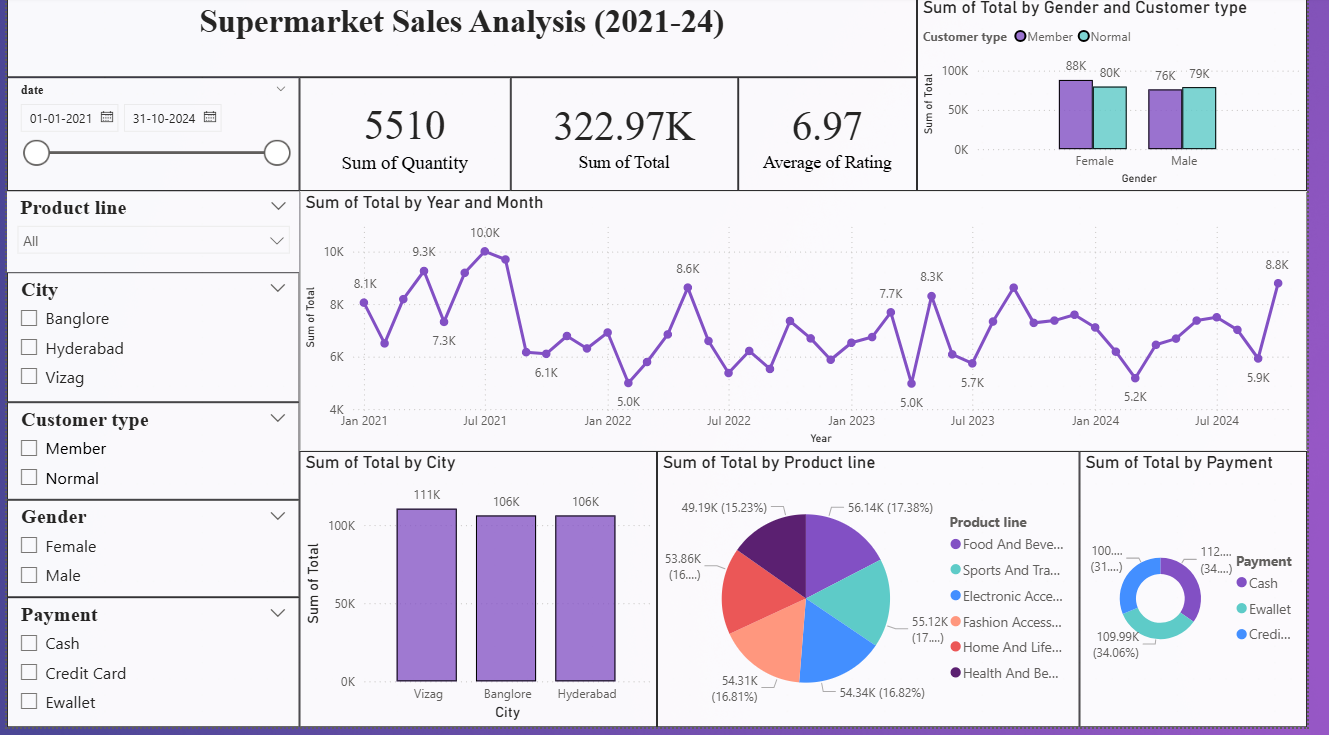

This screenshot's page, from the dashboard's own definition file:
{"tool":"powerbi","page":{"name":"Page 1","canvas":[1280,720],"ordinal":0},"visuals":[{"type":"textbox","box":[0,0,896,80],"z":0},{"type":"slicer","fields":{"Values":["sales.Customer type"]},"box":[0,400,288,96],"z":1000},{"type":"slicer","fields":{"Values":["sales.Gender"]},"box":[0,496,288,96],"z":2000},{"type":"slicer","fields":{"Values":["sales.City"]},"box":[0,272,288,128],"z":3000},{"type":"slicer","fields":{"Values":["sales.Payment"]},"box":[0,592,288,128],"z":4000},{"type":"slicer","fields":{"Values":["sales.Product line"]},"box":[0,192,288,80],"z":5000},{"type":"clusteredColumnChart","fields":{"Category":["sales.City"],"Y":["Sum(sales.Total)"]},"box":[288,448,352,272],"z":6000},{"type":"pieChart","fields":{"Category":["sales.Product line"],"Y":["Sum(sales.Total)"]},"box":[640,448,416,272],"z":7000},{"type":"donutChart","fields":{"Category":["sales.Payment"],"Y":["Sum(sales.Total)"]},"box":[1056,448,224,272],"z":8000},{"type":"lineChart","fields":{"Y":["Sum(sales.Total)"],"Category":["sales.date.Variation.Date Hierarchy.Year","sales.date.Variation.Date Hierarchy.Month"]},"box":[288,192,992,256],"z":9000},{"type":"card","fields":{"Values":["Sum(sales.Quantity)"]},"box":[288,80,208,112],"z":10000},{"type":"slicer","fields":{"Values":["sales.date"]},"box":[0,80,288,112],"z":11000},{"type":"card","fields":{"Values":["Sum(sales.Total)"]},"box":[496,80,224,112],"z":12000},{"type":"card","fields":{"Values":["Avg(sales.Rating)"]},"box":[720,80,176,112],"z":13000},{"type":"clusteredColumnChart","fields":{"Category":["sales.Gender"],"Series":["sales.Customer type"],"Y":["Sum(sales.Total)"]},"box":[896,0,384,192],"z":14000}]}

Visuals, with their boxes in screenshot pixels (x1, y1, x2, y2), scaled from the page's 1280x720 canvas onto the 1329x735 screenshot:
textbox: Rect(0, 0, 930, 82)
slicer - sales.Customer type: Rect(0, 408, 299, 506)
slicer - sales.Gender: Rect(0, 506, 299, 604)
slicer - sales.City: Rect(0, 278, 299, 408)
slicer - sales.Payment: Rect(0, 604, 299, 734)
slicer - sales.Product line: Rect(0, 196, 299, 278)
clusteredColumnChart - sales.City x Sum(sales.Total): Rect(299, 457, 664, 734)
pieChart - sales.Product line x Sum(sales.Total): Rect(664, 457, 1096, 734)
donutChart - sales.Payment x Sum(sales.Total): Rect(1096, 457, 1328, 734)
lineChart - Sum(sales.Total) x sales.date.Variation.Date Hierarchy.Year: Rect(299, 196, 1328, 457)
card - Sum(sales.Quantity): Rect(299, 82, 515, 196)
slicer - sales.date: Rect(0, 82, 299, 196)
card - Sum(sales.Total): Rect(515, 82, 748, 196)
card - Avg(sales.Rating): Rect(748, 82, 930, 196)
clusteredColumnChart - sales.Gender x sales.Customer type: Rect(930, 0, 1328, 196)
